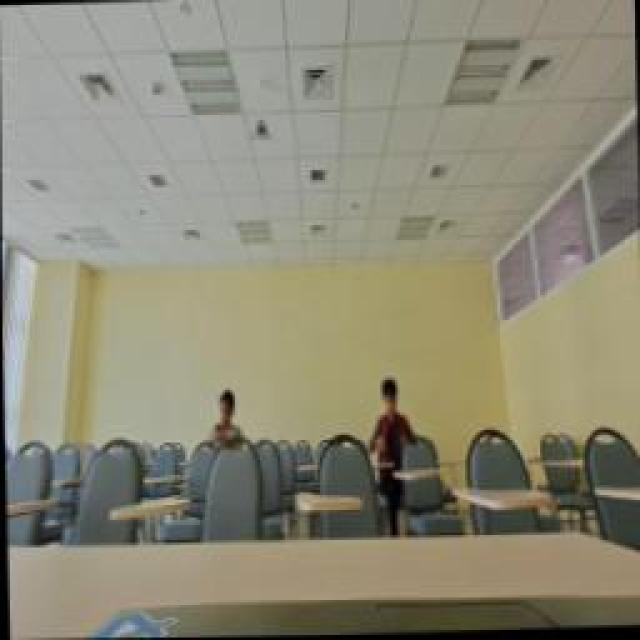phone: (202, 388, 240, 458)
